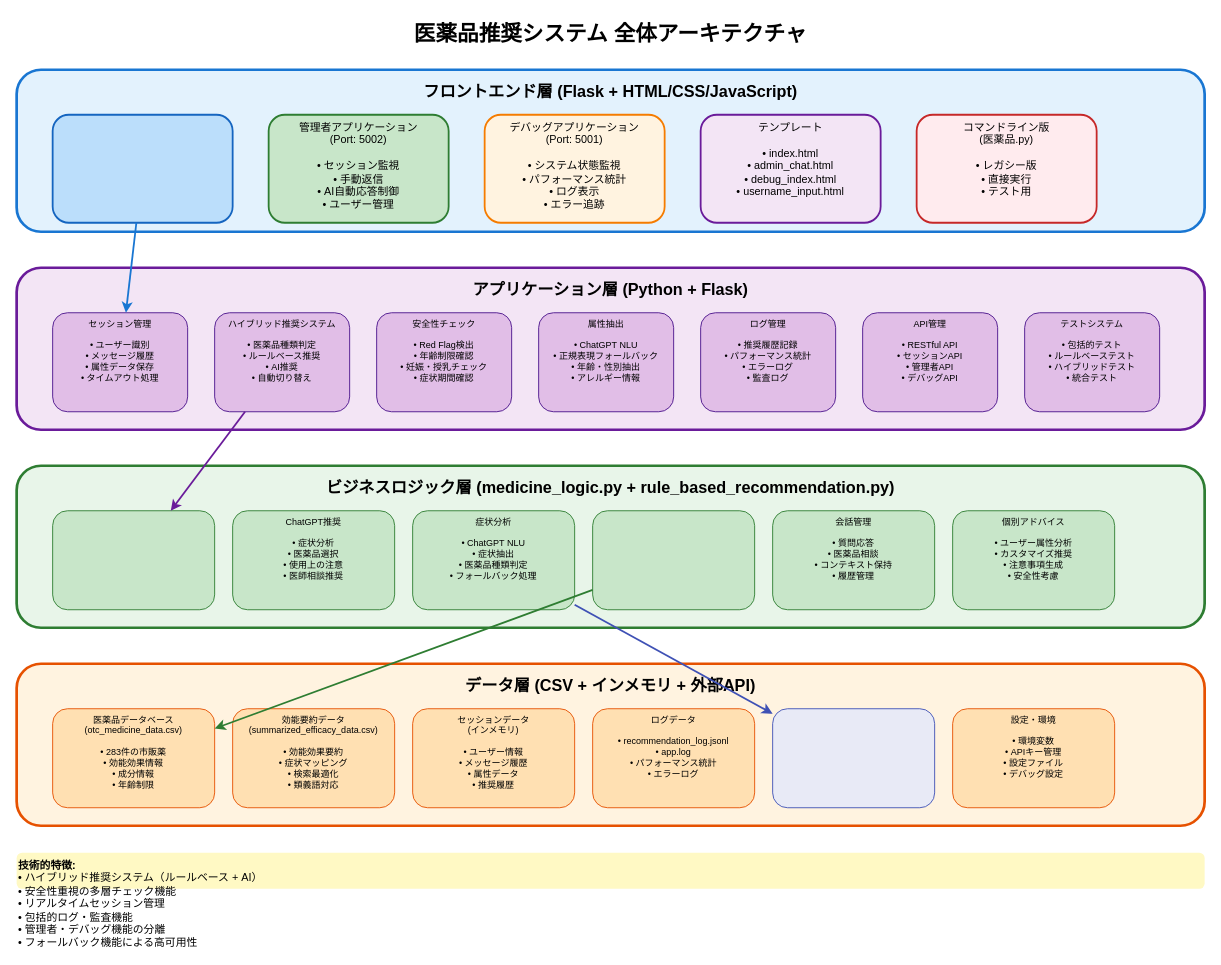
Some shapes in this 1221 by 965 pixel diagram are drawn without their labels. The shapes that lost their labels are listed below. From the top down, each one's centre as x and y in pixels, then its label:
At point (142, 168): "メインアプリケーション (Port: 5000) • ユーザーチャット • 症状入力・推奨表示 • セッション管理 • 属性情報収集".
At point (133, 560): "ルールベース推奨 • 症状辞書マッチング • 多因子スコアリング • 安全性フィルタ • 推奨理由生成".
At point (673, 560): "医薬品検索 • CSVデータ検索 • 効能効果マッチング • 成分情報取得 • 詳細情報統合".
At point (853, 758): "ChatGPT API (外部サービス) • 症状分析 • 医薬品推奨 • 属性抽出 • 会話生成".
